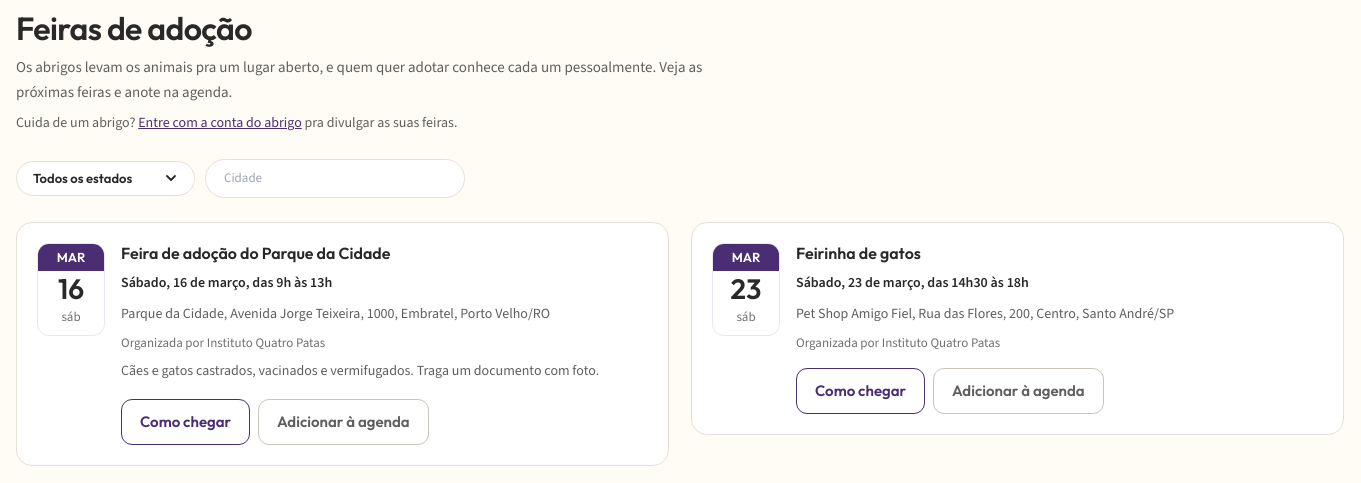
Test: filtra pela cidade depois que a pessoa para de digitar, e limpa os filtros
Type "santo" into the search field labelled "Cidade".
click(335, 178); type("santo")  # box [205,159,465,198]
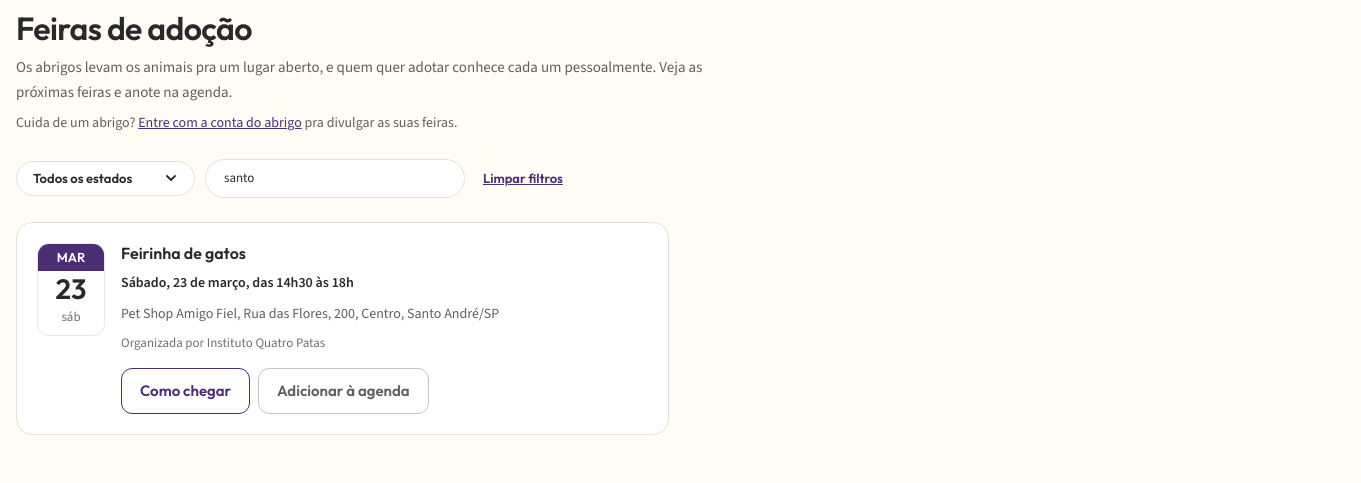
Click the button "Limpar filtros".
click(523, 178)  # box [475,170,571,187]
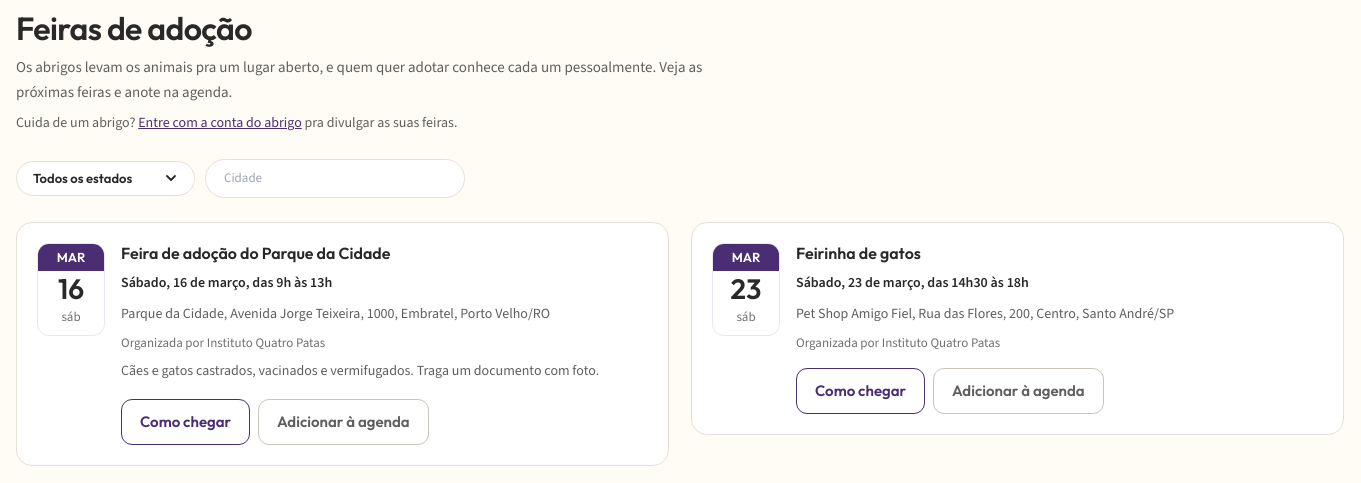
Expected: the search field labelled "Cidade" is empty, [205,159,465,198]
